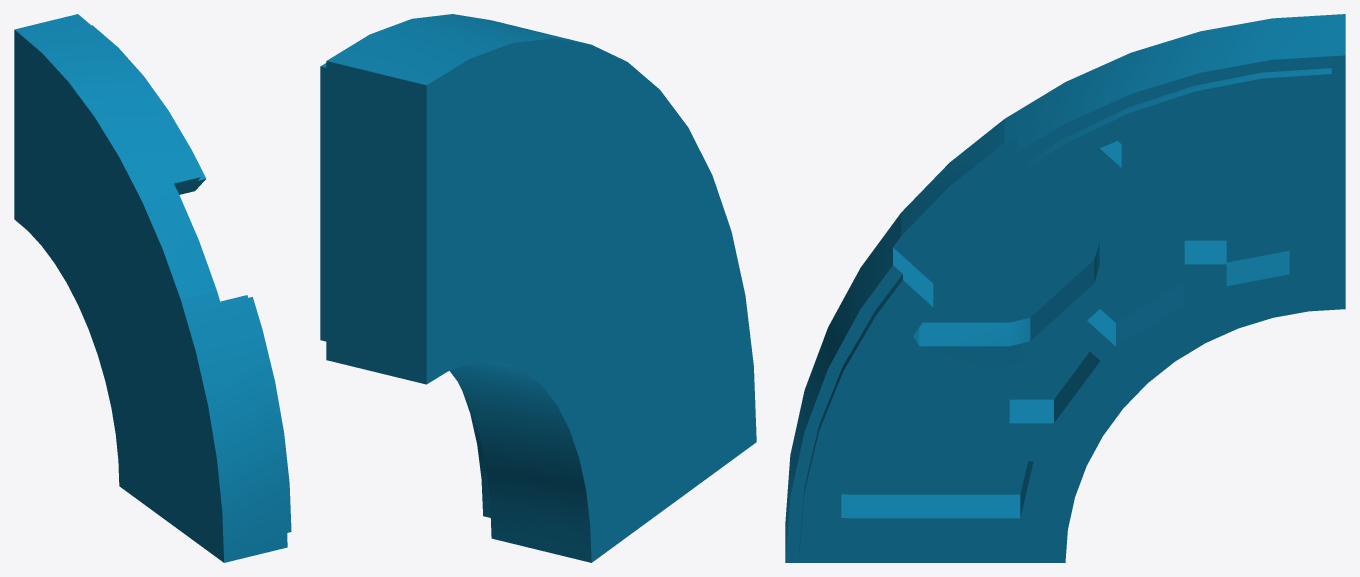
Rendered from tile_round_corner2*2_macaroni_medium_azure.obj.
3 views of the same model, side by side, from view 1: azimuth 30°, elevation 25°; view 2: azimuth 150°, elevation 25°; view 3: azimuth 270°, elevation 25° (orthographic). The views are drawn at different scales.
Size of the model in its own units: 8 by 40 by 40.
